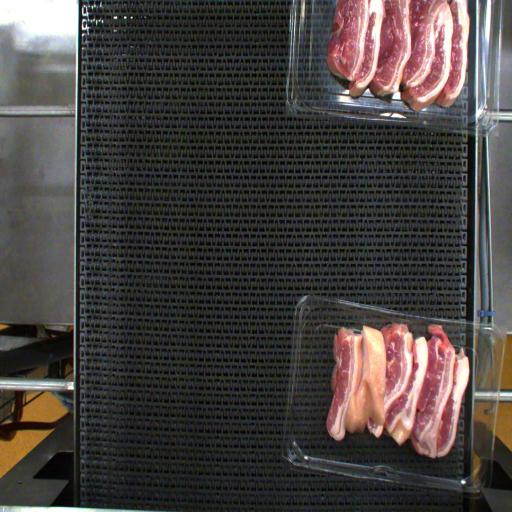twisted-meat: (349, 330, 388, 440)
